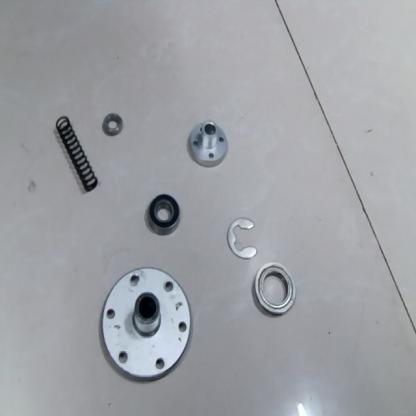FOD: (98, 265, 193, 384), (53, 113, 100, 197), (252, 261, 295, 317), (186, 119, 230, 169), (142, 190, 184, 234), (227, 216, 260, 264), (101, 109, 125, 140)
